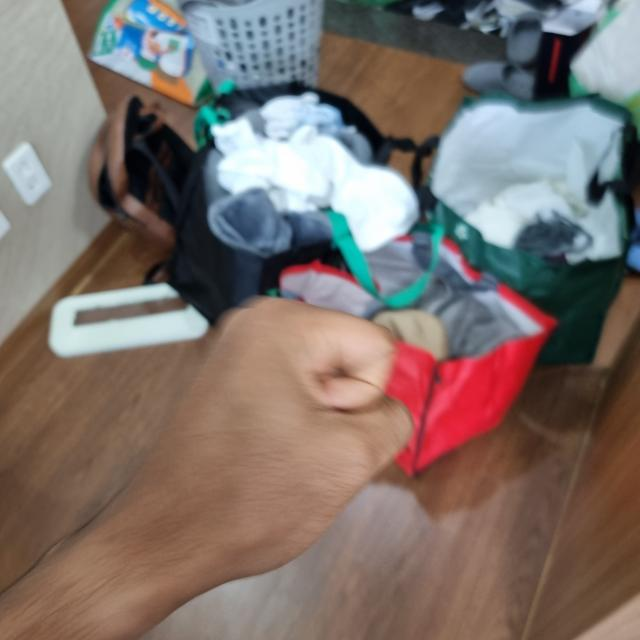Rock: (122, 292, 406, 579)
